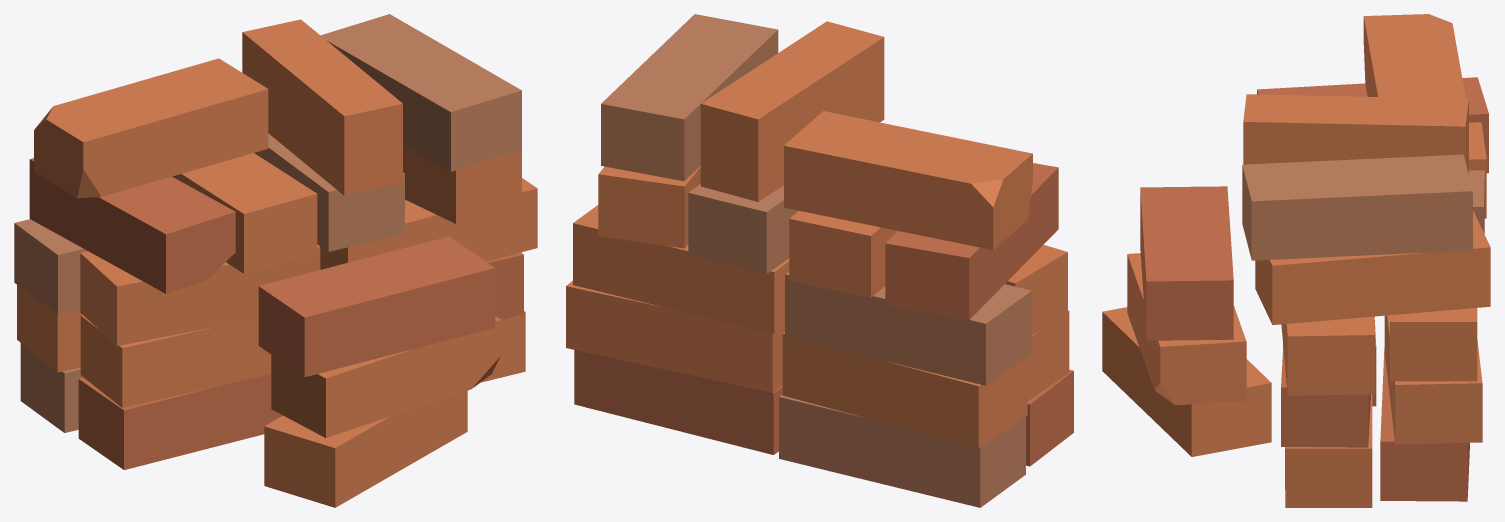
The model's file is Brick_Pile_m_01.fbx.
3 views of the same model, side by side, from view 1: azimuth 30°, elevation 25°; view 2: azimuth 150°, elevation 25°; view 3: azimuth 270°, elevation 25° (orthographic). The views are drawn at different scales.
Visible parts, largest first — view 1: Brick_Pile_m_01; view 2: Brick_Pile_m_01; view 3: Brick_Pile_m_01.
Part boxes in pixels (left/top/right/bottom): Brick_Pile_m_01: left=14, top=14, right=537, bottom=507; Brick_Pile_m_01: left=566, top=14, right=1073, bottom=507; Brick_Pile_m_01: left=1102, top=14, right=1490, bottom=507.
Bounding box in the file's own units: 56.28 × 40 × 44.5.
